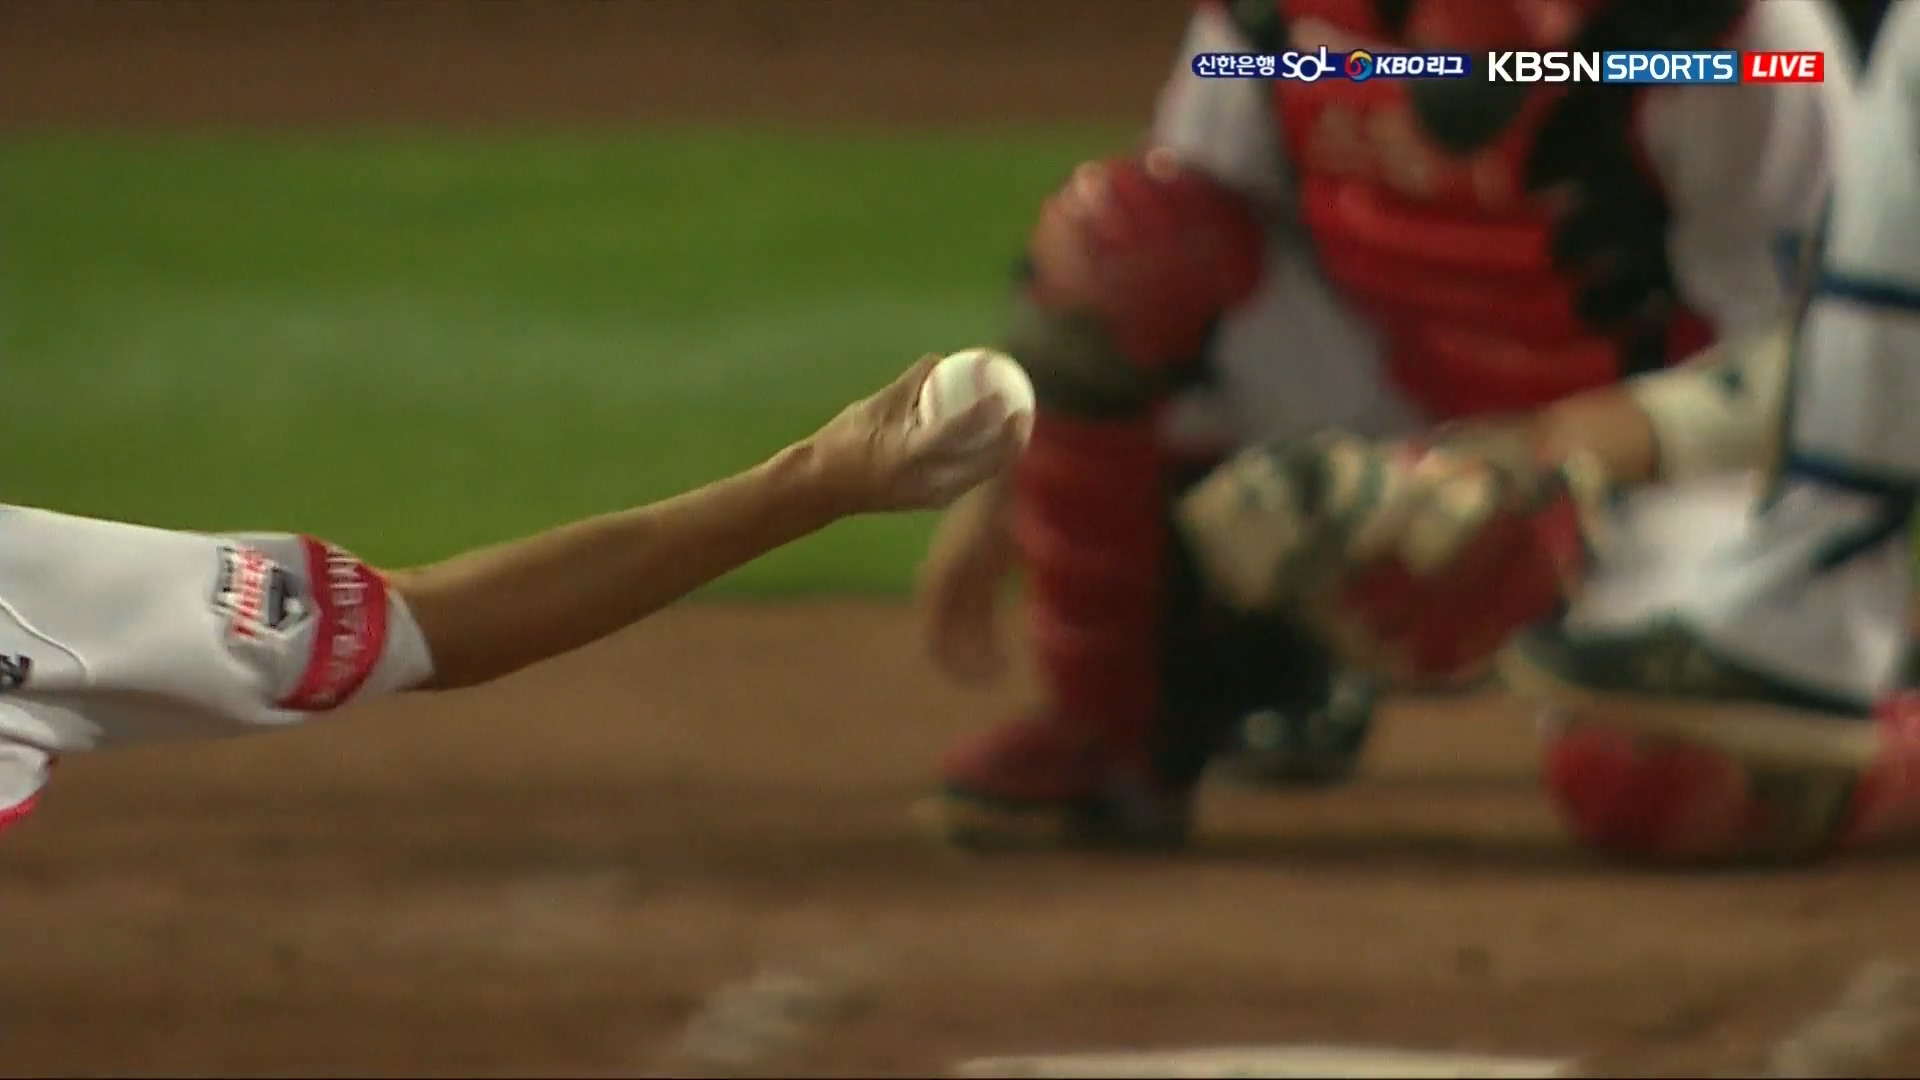zoomin_hand: (410, 342, 1046, 708)
